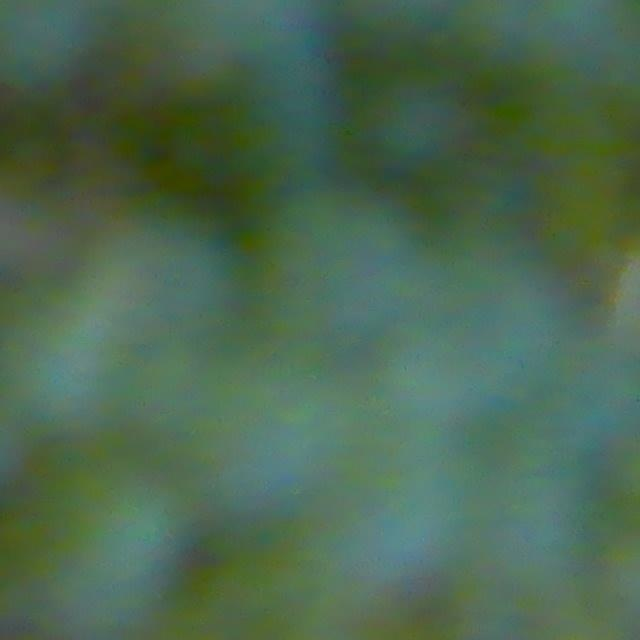SeaGrape: (0, 451, 169, 627)
